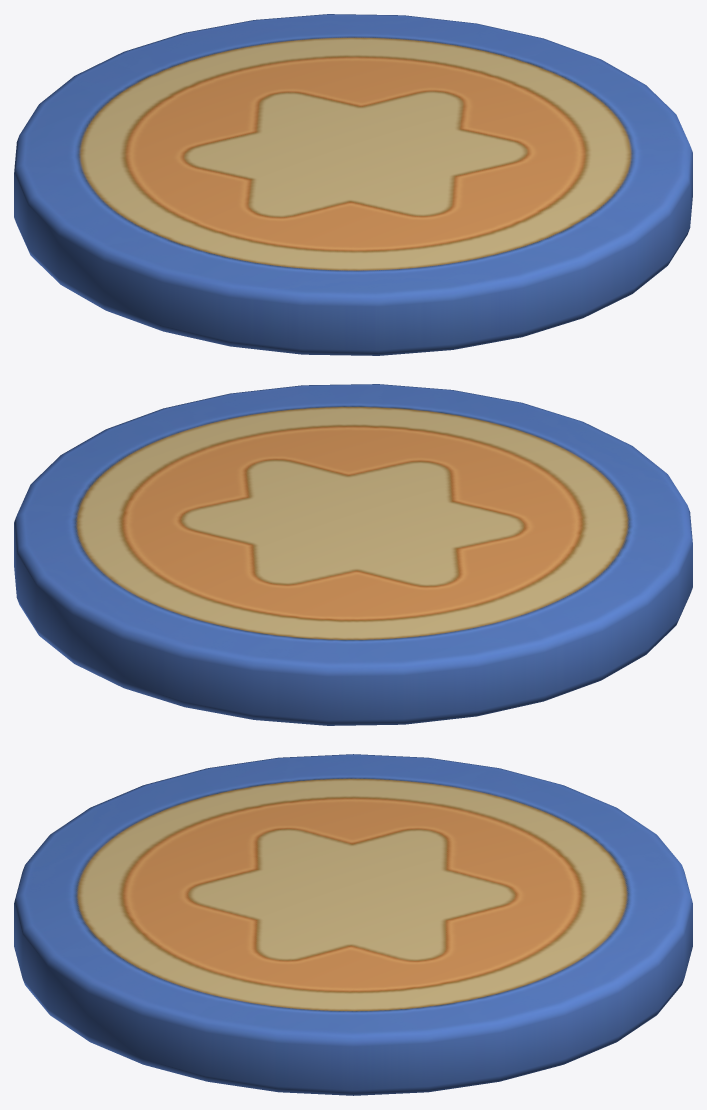
Rendered from SM_ParkourBoard_Circle.fbx.
3 renders of one model, top to bottom at view 1: azimuth 30°, elevation 25°; view 2: azimuth 150°, elevation 25°; view 3: azimuth 270°, elevation 25°, orthographic.
Visible parts, largest first — view 1: SM_ParkourBoard_Circle; view 2: SM_ParkourBoard_Circle; view 3: SM_ParkourBoard_Circle.
Part boxes in pixels (x1,y1,x2,y2): SM_ParkourBoard_Circle: (14, 14, 692, 355); SM_ParkourBoard_Circle: (14, 384, 692, 725); SM_ParkourBoard_Circle: (14, 754, 692, 1095).
Size of the model in its own units: 1000 by 100 by 1000.
